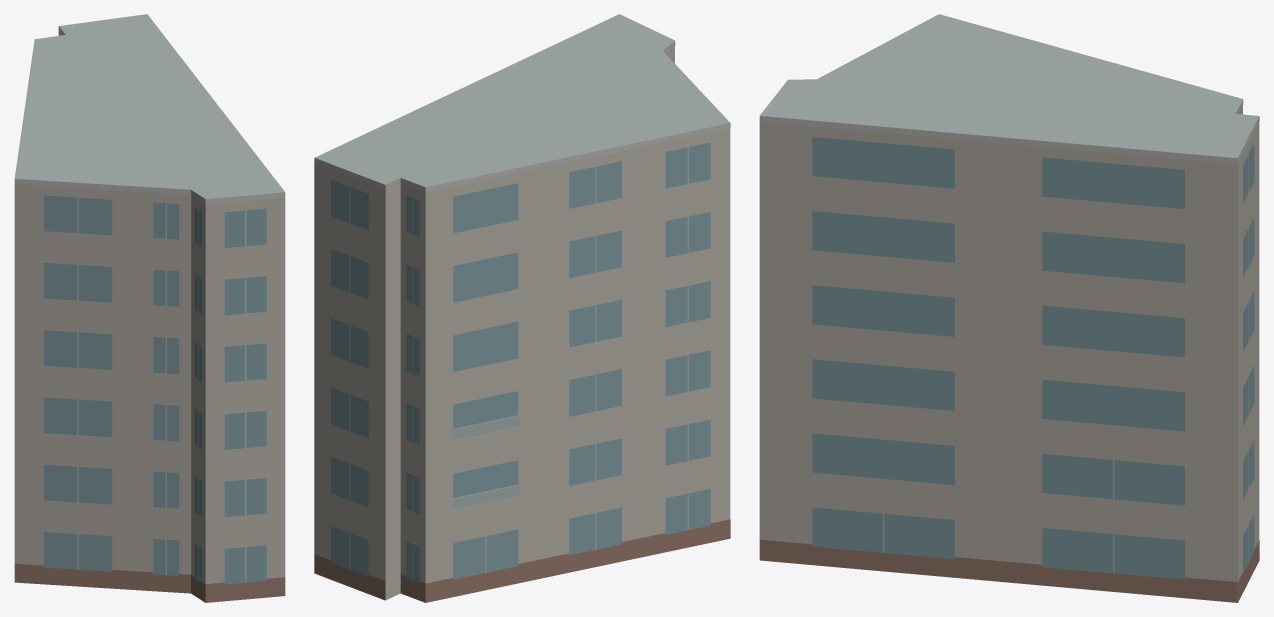
Rendered from survey-upis-32756136.glb.
3 views of the same model, side by side, from view 1: azimuth 30°, elevation 25°; view 2: azimuth 150°, elevation 25°; view 3: azimuth 270°, elevation 25° (orthographic). The views are drawn at different scales.
Parts seen in each view (by area): view 1: survey-upis-32756136.tmp; view 2: survey-upis-32756136.tmp; view 3: survey-upis-32756136.tmp.
Boxes of the visible parts, x1=… form: survey-upis-32756136.tmp: x1=14, y1=14, x2=285, y2=602; survey-upis-32756136.tmp: x1=314, y1=14, x2=730, y2=602; survey-upis-32756136.tmp: x1=759, y1=14, x2=1259, y2=602.
Bounding box in the file's own units: 13.02 × 18.7 × 19.06.
